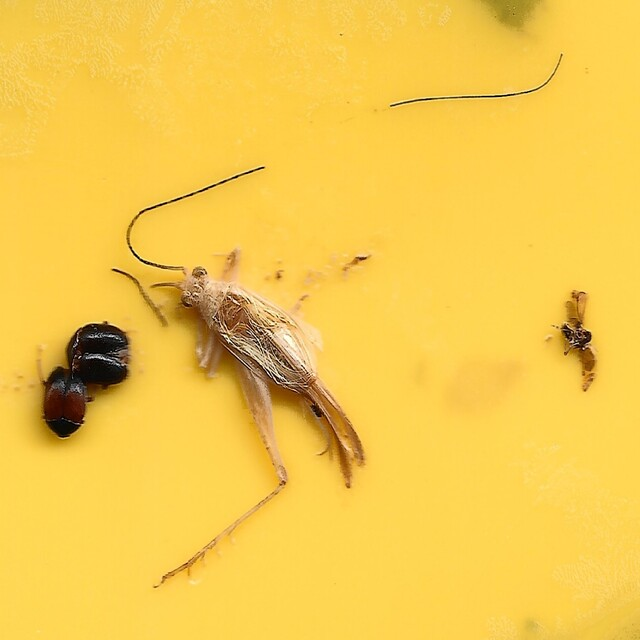Coleoptera: (64, 322, 131, 389), (43, 366, 89, 438)
Nematocera: (548, 289, 597, 393)
Orthoptera: (112, 52, 565, 588)
